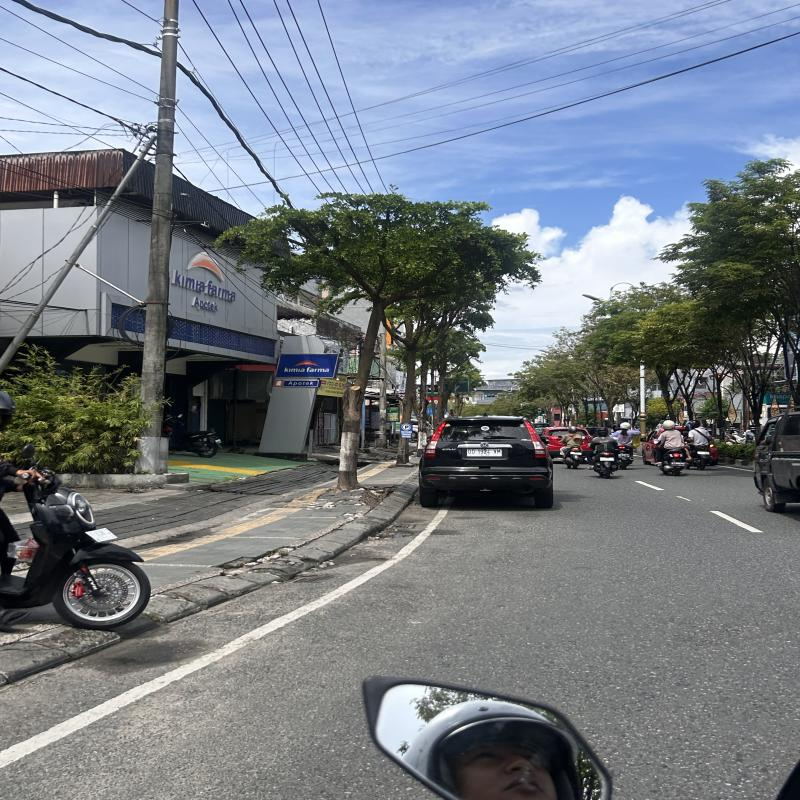license plate on a car: (467, 449, 502, 457)
